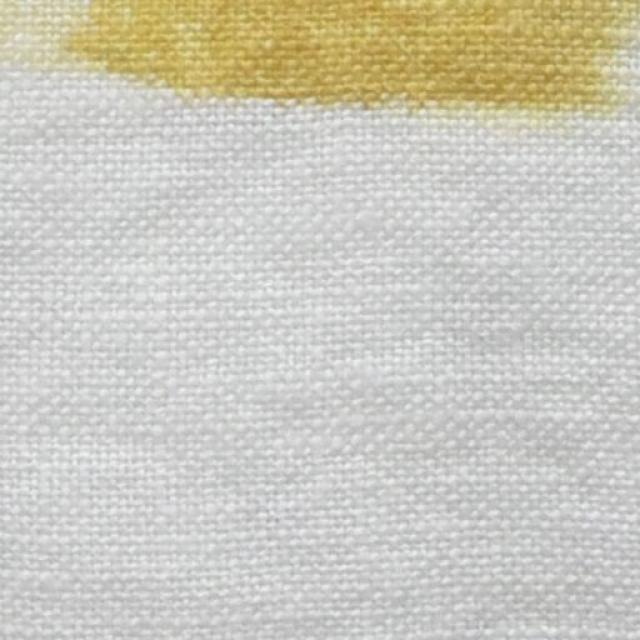Stain: (0, 0, 640, 138)
